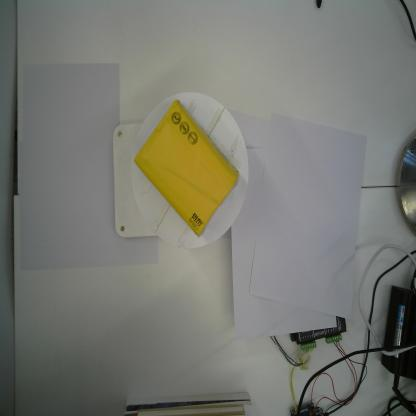Tissue: (133, 98, 239, 237)
